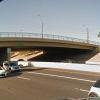Bridge: (4, 23, 93, 62)
